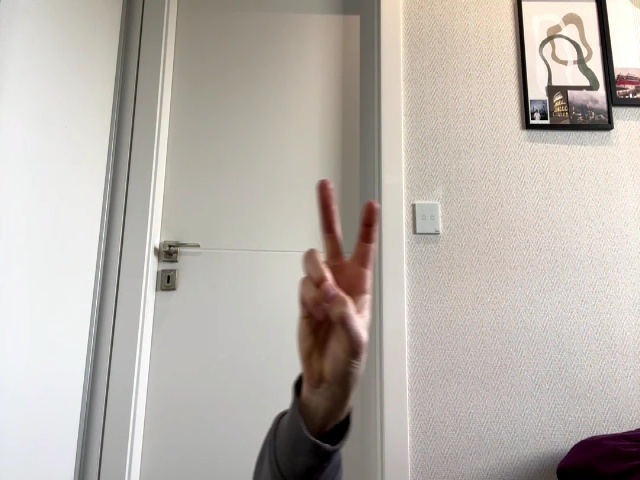H: (297, 180, 379, 386)
